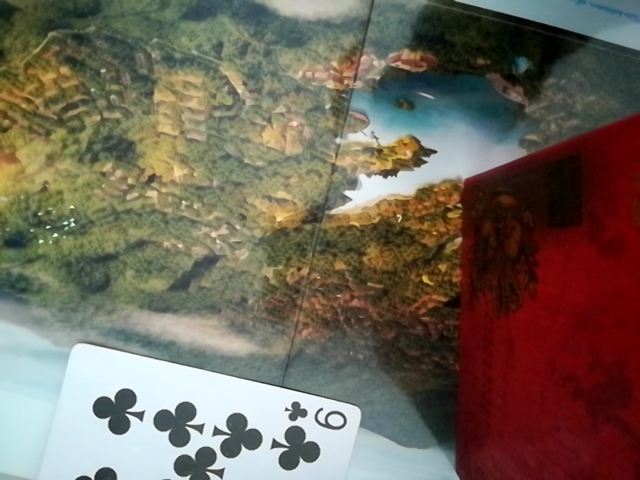mh 9: (18, 348, 374, 480)
